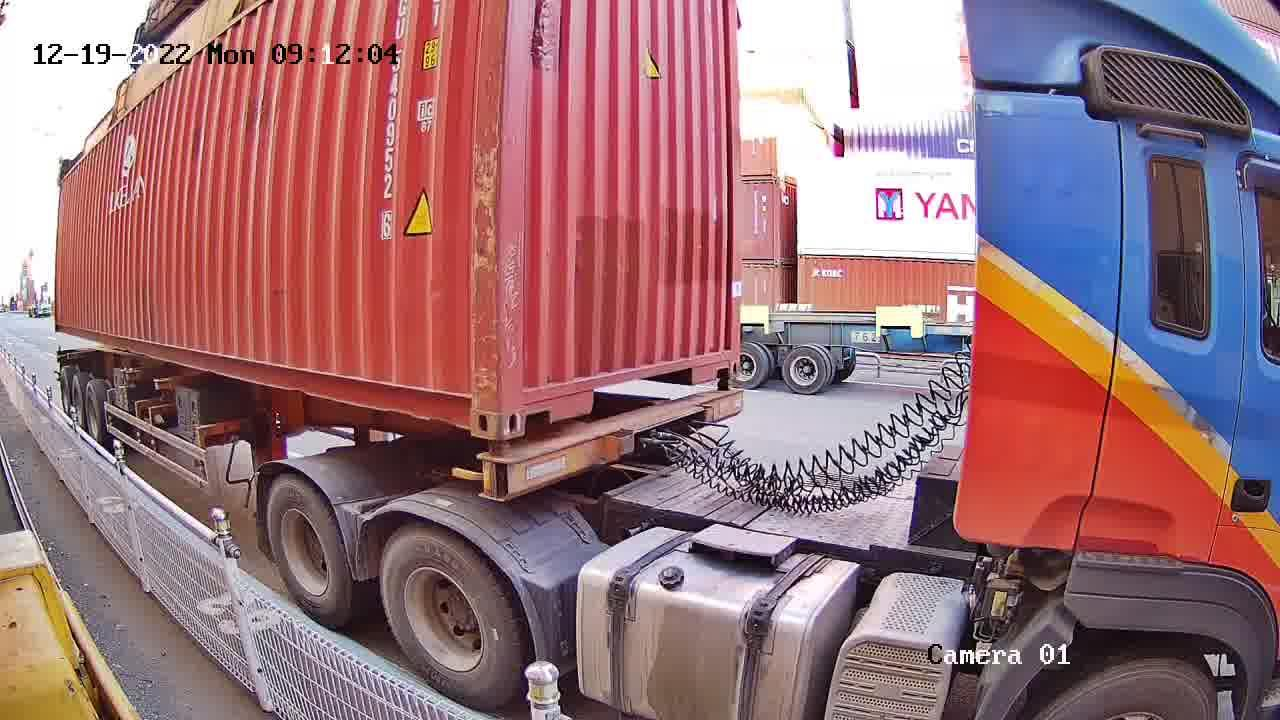Chassis: (477, 386, 741, 499)
Cone: (481, 442, 515, 499), (712, 377, 740, 395)
Hole_L: (500, 368, 553, 438)
Hole_R: (447, 373, 497, 438), (713, 337, 741, 377)
Tire: (379, 530, 522, 704), (267, 480, 348, 616)
